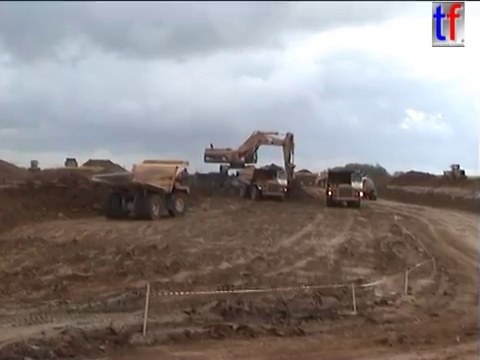excavator: (202, 129, 299, 189)
truck: (89, 158, 192, 220), (235, 163, 288, 203), (325, 166, 364, 208), (344, 172, 377, 201), (271, 169, 319, 188), (62, 156, 79, 171)
wheel loader: (439, 163, 468, 182)
